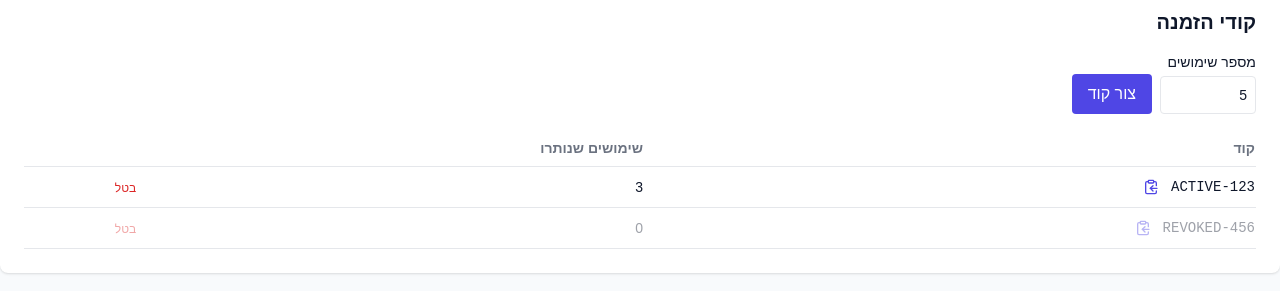
Test case: AdminInviteCodesContent › shows an actionable error when copying fails and keeps the revoked row usable
Click the button with test id "invite-code-copy-revoked-id": (1143, 228) [1131,216,1155,240]
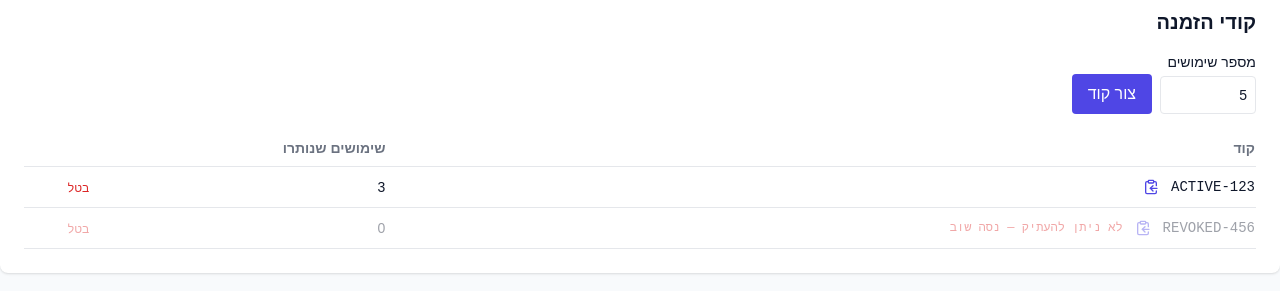
Check: the text "REVOKED-456" is shown, box [1163,218,1255,238]
Check: the text "לא ניתן להעתיק — נסה שוב" is shown, box [950,220,1123,236]
